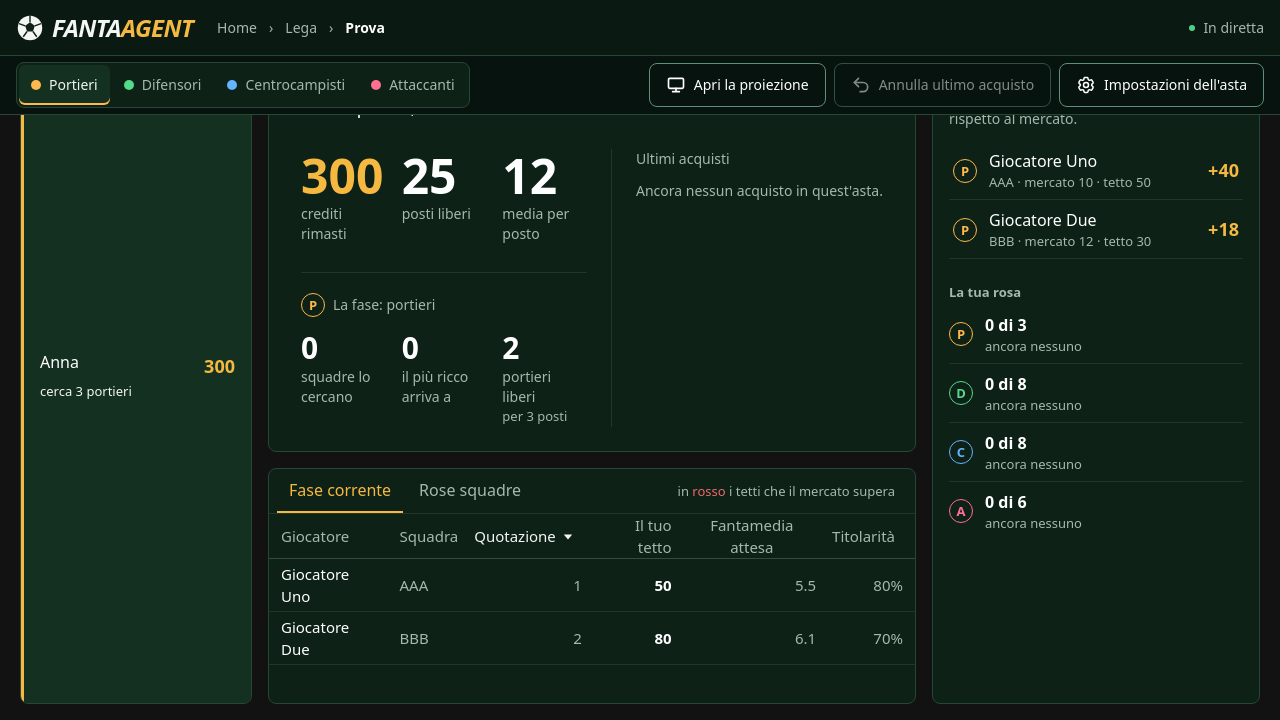
AuctionRoute › un controllo avvia il conto alla rovescia per il giocatore selezionato, con le preferenze vere
(page scrolled)
Click the button with aria-label "Valuta Giocatore Uno".
click(328, 585)  # box [269,559,388,611]
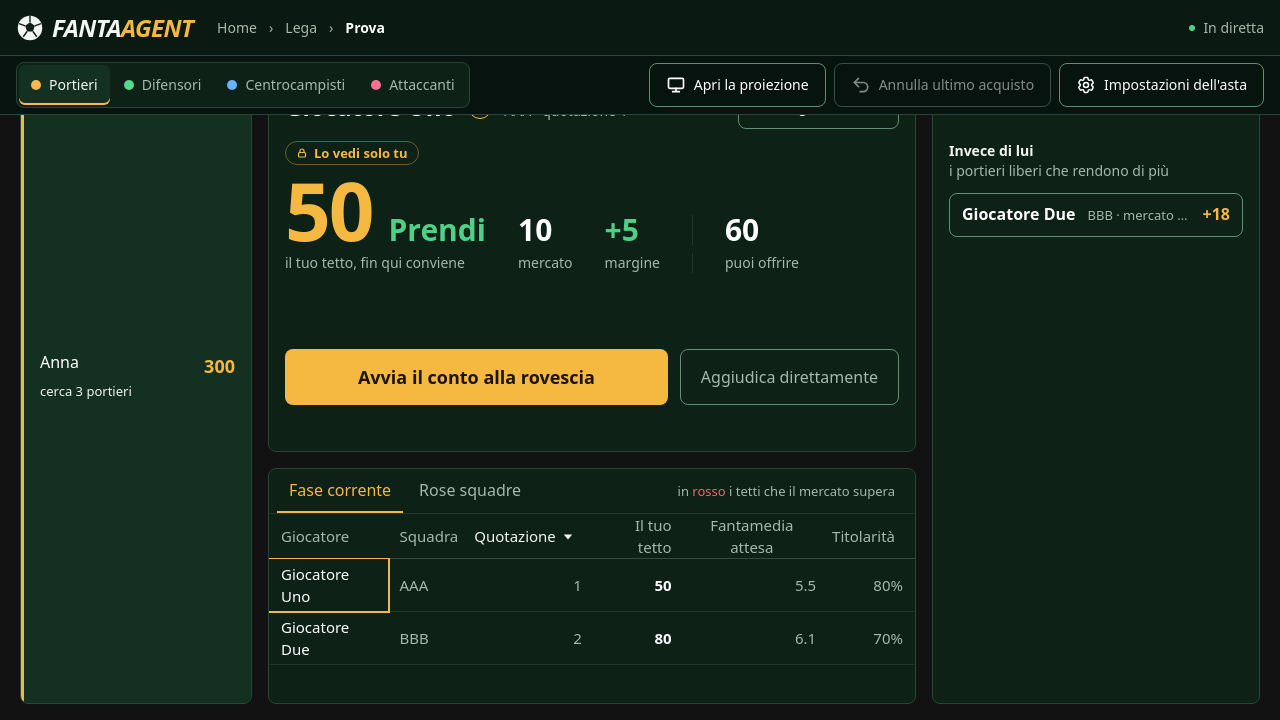
Check: the text with test id "max-bid" reads "50", box [285,155,372,264]
Check: the button "Avvia il conto alla rovescia" is enabled
Click the button "Avvia il conto alla rovescia".
click(476, 377)  # box [285,349,668,405]
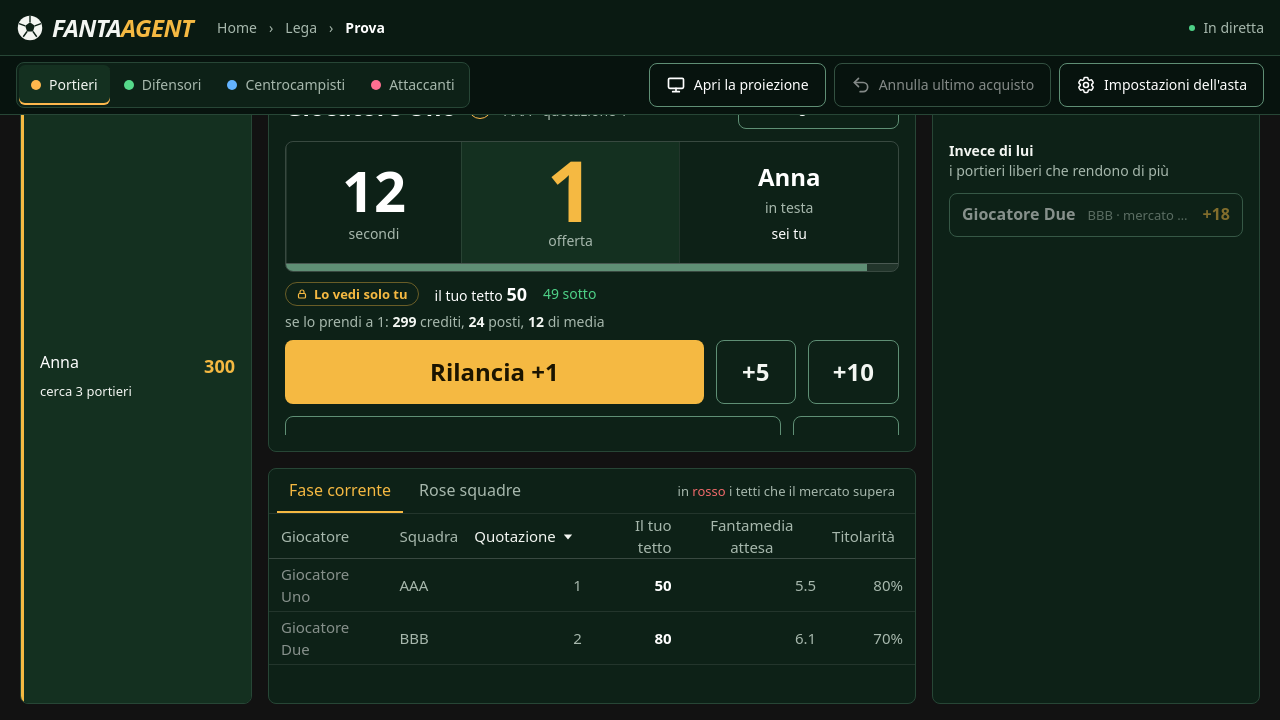
Check: the text with test id "bidder-ceiling" reads "50", box [506,282,527,306]
Check: the element with test id "bidder-dialog" is shown, box [285,141,899,435]
Check: the text with test id "bidder-remaining" reads "12", box [342,152,406,228]
